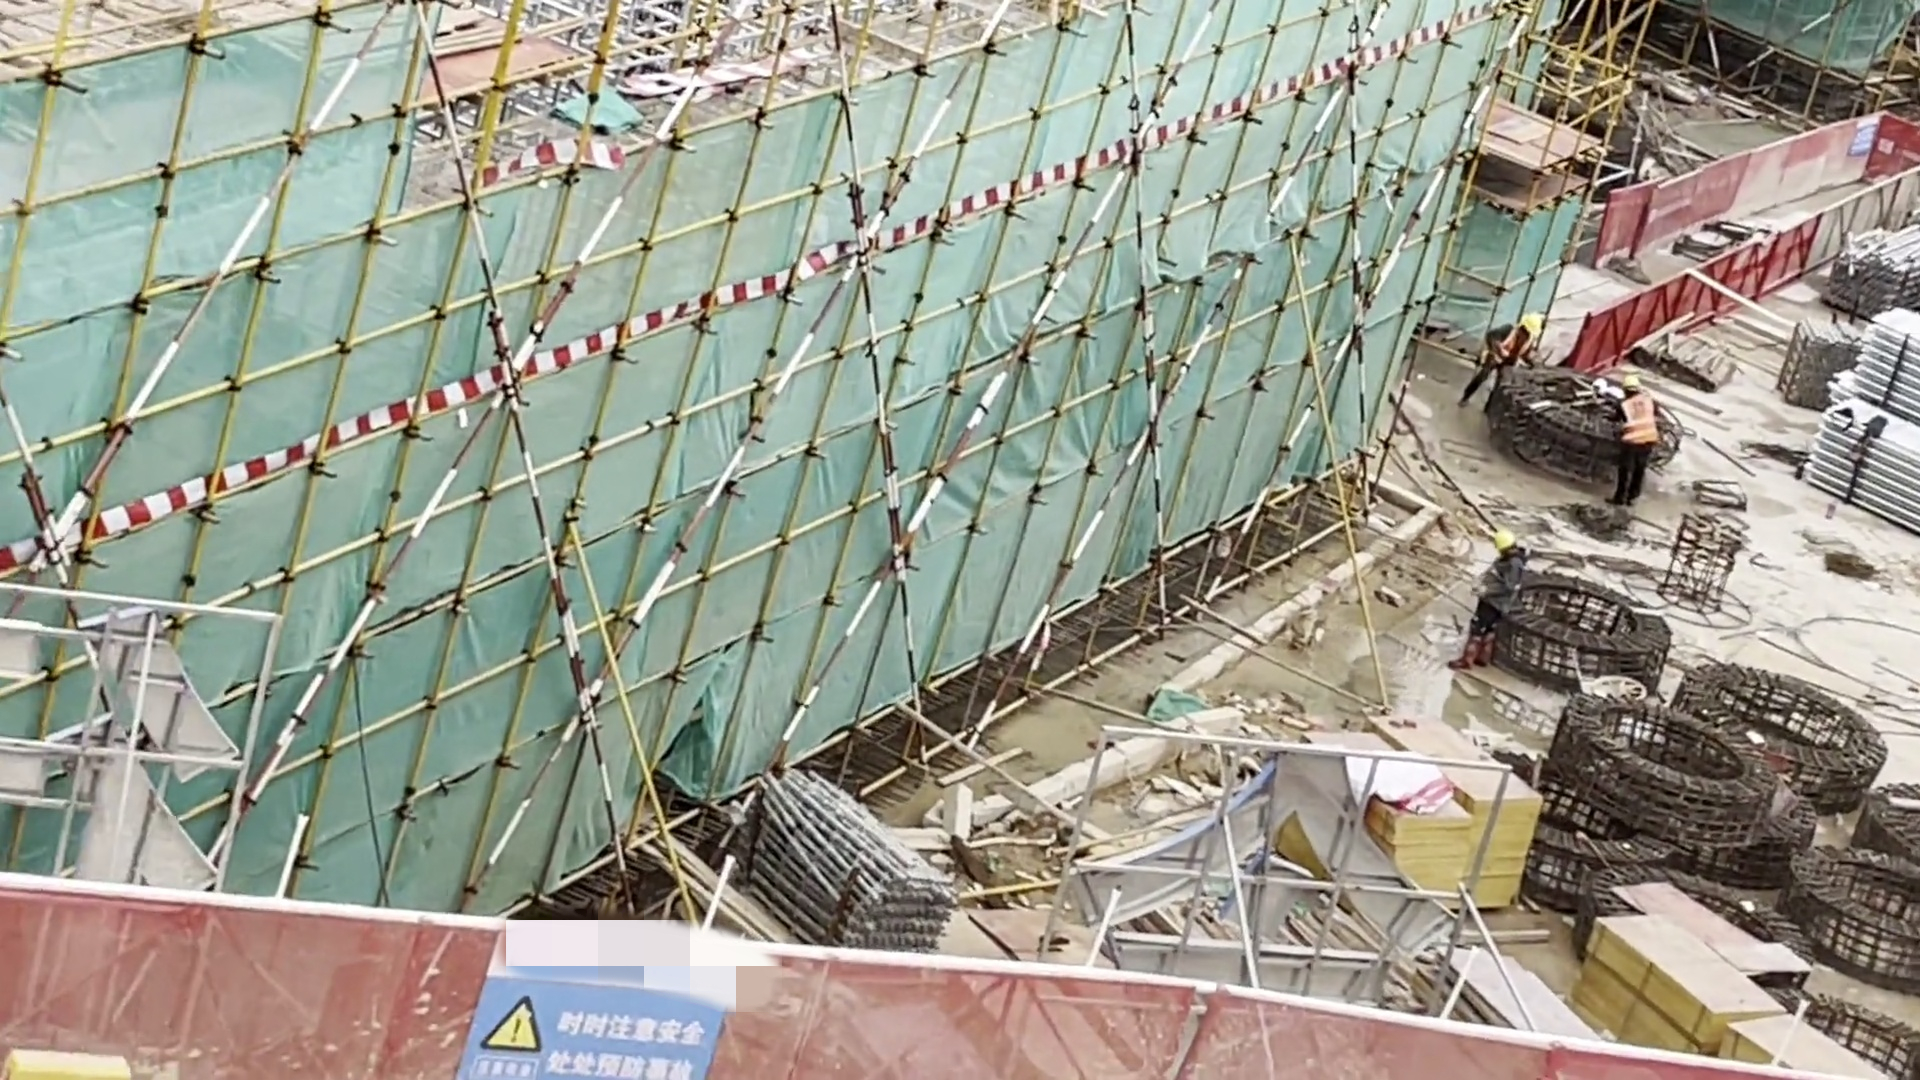board: (1314, 675, 1558, 916), (1593, 854, 1841, 1080)
fence: (1, 824, 1606, 1070), (1570, 96, 1895, 341)
helmet: (1522, 311, 1545, 340), (1621, 371, 1645, 394)
person: (1458, 310, 1546, 408), (1611, 368, 1660, 508)
scaffold: (748, 760, 990, 992), (1816, 264, 1920, 537)
vest: (1489, 323, 1528, 380), (1623, 387, 1658, 445)
